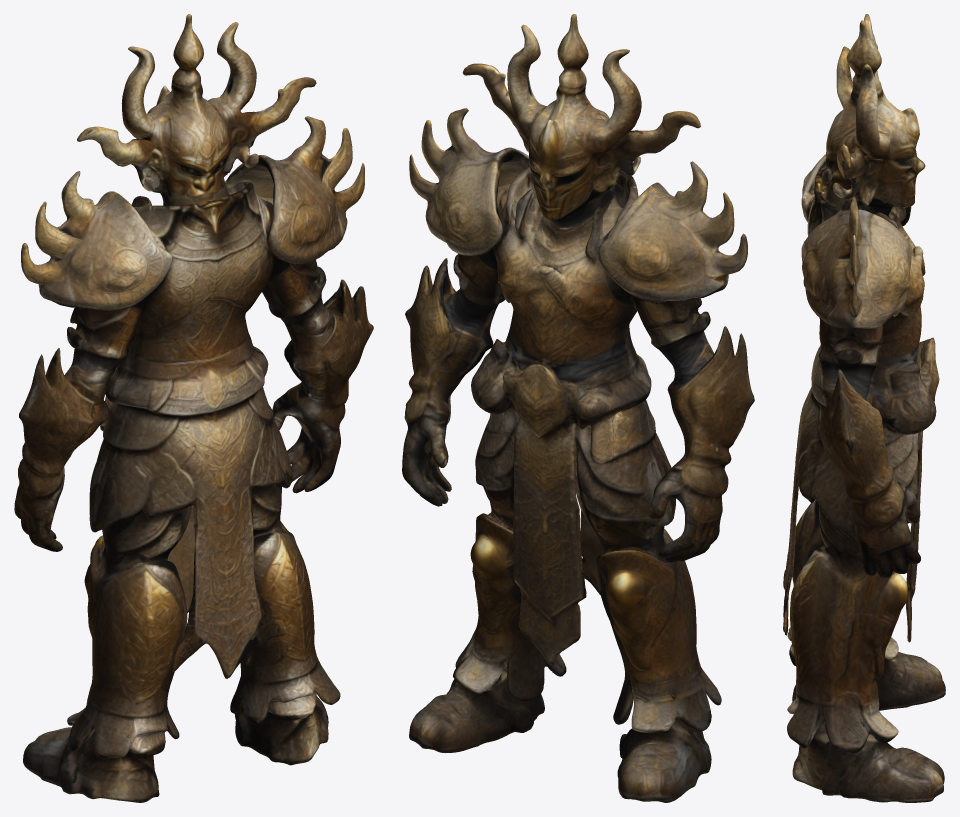
The model's file is Imagine_a_hyper_reali_0206172241_texture.fbx.
3 renders of one model, left to right at view 1: azimuth 30°, elevation 25°; view 2: azimuth 150°, elevation 25°; view 3: azimuth 270°, elevation 25°, orthographic. The views are drawn at different scales.
Parts seen in each view (by area): view 1: Mesh1_Mesh1.002; view 2: Mesh1_Mesh1.002; view 3: Mesh1_Mesh1.002.
Boxes of the visible parts, box(x1,y1,x2,y2) form: Mesh1_Mesh1.002: box(14, 14, 373, 802); Mesh1_Mesh1.002: box(402, 14, 754, 802); Mesh1_Mesh1.002: box(783, 14, 945, 802).
Size of the model in its own units: 89.71 by 180 by 36.87.
Materials: 1 (1 with a texture image).
